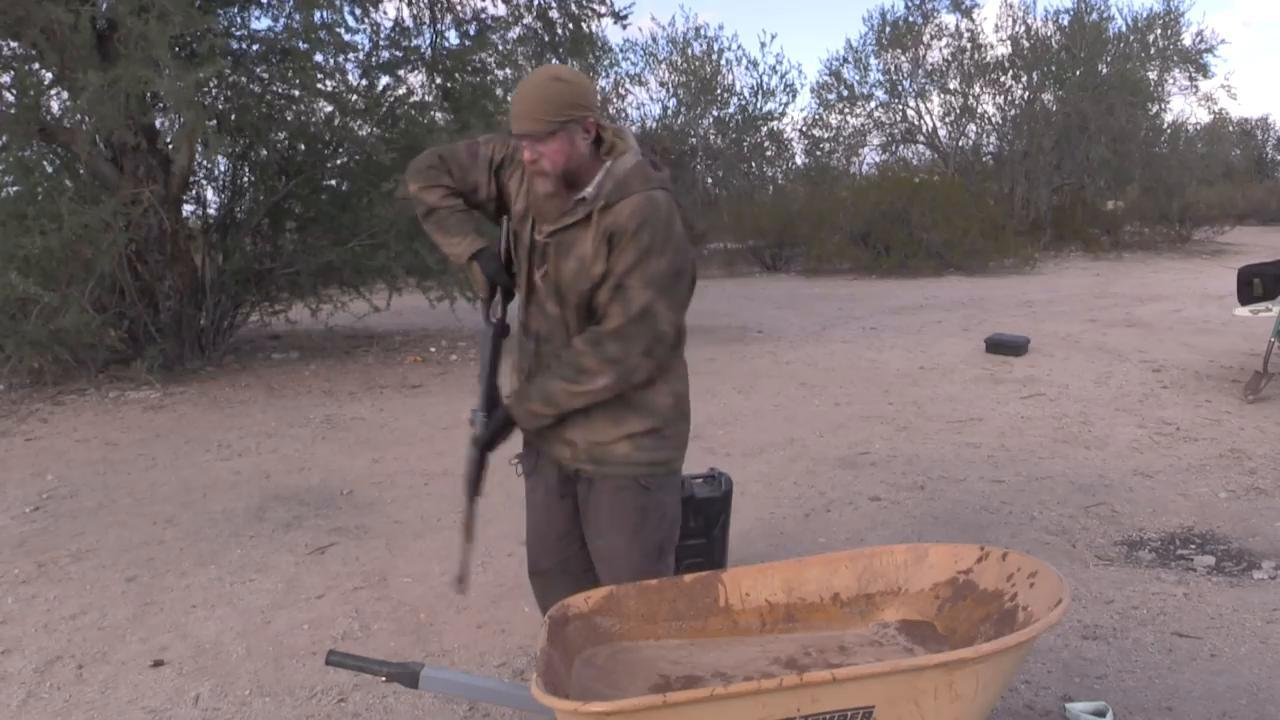AK47 Rifle: (449, 213, 511, 599)
